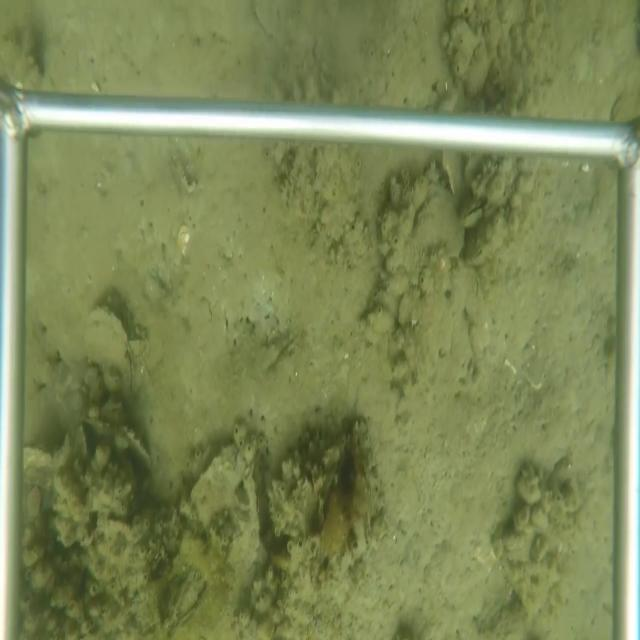Oyster-Closed: (177, 440, 272, 629), (83, 298, 136, 404), (115, 428, 153, 473)
Oyster-Indeterminate: (378, 193, 466, 320), (441, 150, 464, 199)
Oyster-Open: (458, 197, 484, 232)
